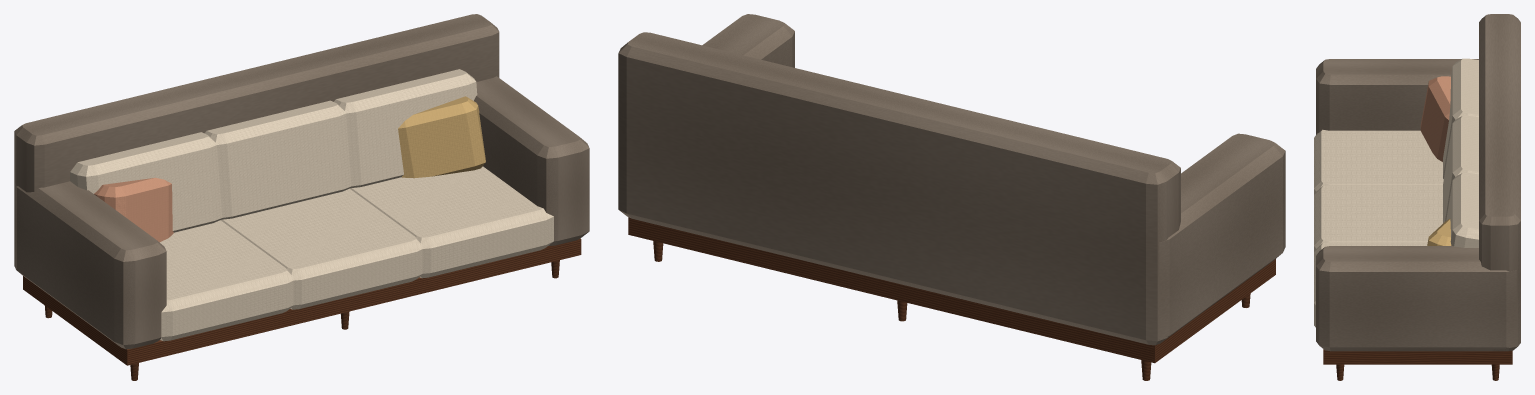
Rendered from sofa_straight_3seat.glb.
3 views of the same model, side by side, from view 1: azimuth 30°, elevation 25°; view 2: azimuth 150°, elevation 25°; view 3: azimuth 270°, elevation 25° (orthographic). The views are drawn at different scales.
Parts seen in each view (by area): view 1: sofa_straight_3seat_fabricLinen, sofa_straight_3seat_fabricVelvet, sofa_straight_3seat_woodWalnut, sofa_straight_3seat_pillowMustard, sofa_straight_3seat_pillowTerra; view 2: sofa_straight_3seat_fabricVelvet, sofa_straight_3seat_woodWalnut; view 3: sofa_straight_3seat_fabricVelvet, sofa_straight_3seat_fabricLinen, sofa_straight_3seat_woodWalnut, sofa_straight_3seat_pillowTerra, sofa_straight_3seat_pillowMustard.
Boxes of the visible parts, x1,y1,x2,y2 form: sofa_straight_3seat_fabricLinen: (70, 69, 553, 341); sofa_straight_3seat_fabricVelvet: (14, 14, 589, 349); sofa_straight_3seat_woodWalnut: (23, 238, 581, 380); sofa_straight_3seat_pillowMustard: (398, 96, 485, 178); sofa_straight_3seat_pillowTerra: (94, 177, 173, 242); sofa_straight_3seat_fabricVelvet: (618, 14, 1285, 345); sofa_straight_3seat_woodWalnut: (628, 217, 1275, 380); sofa_straight_3seat_fabricVelvet: (1316, 14, 1520, 351); sofa_straight_3seat_fabricLinen: (1314, 58, 1478, 327); sofa_straight_3seat_woodWalnut: (1323, 349, 1512, 380); sofa_straight_3seat_pillowTerra: (1420, 76, 1450, 161); sofa_straight_3seat_pillowMustard: (1427, 219, 1451, 245).
Size of what is drawn, in the model's own units: 2.2 by 0.84 by 0.92.
Materials: 6 (5 with a texture image).
